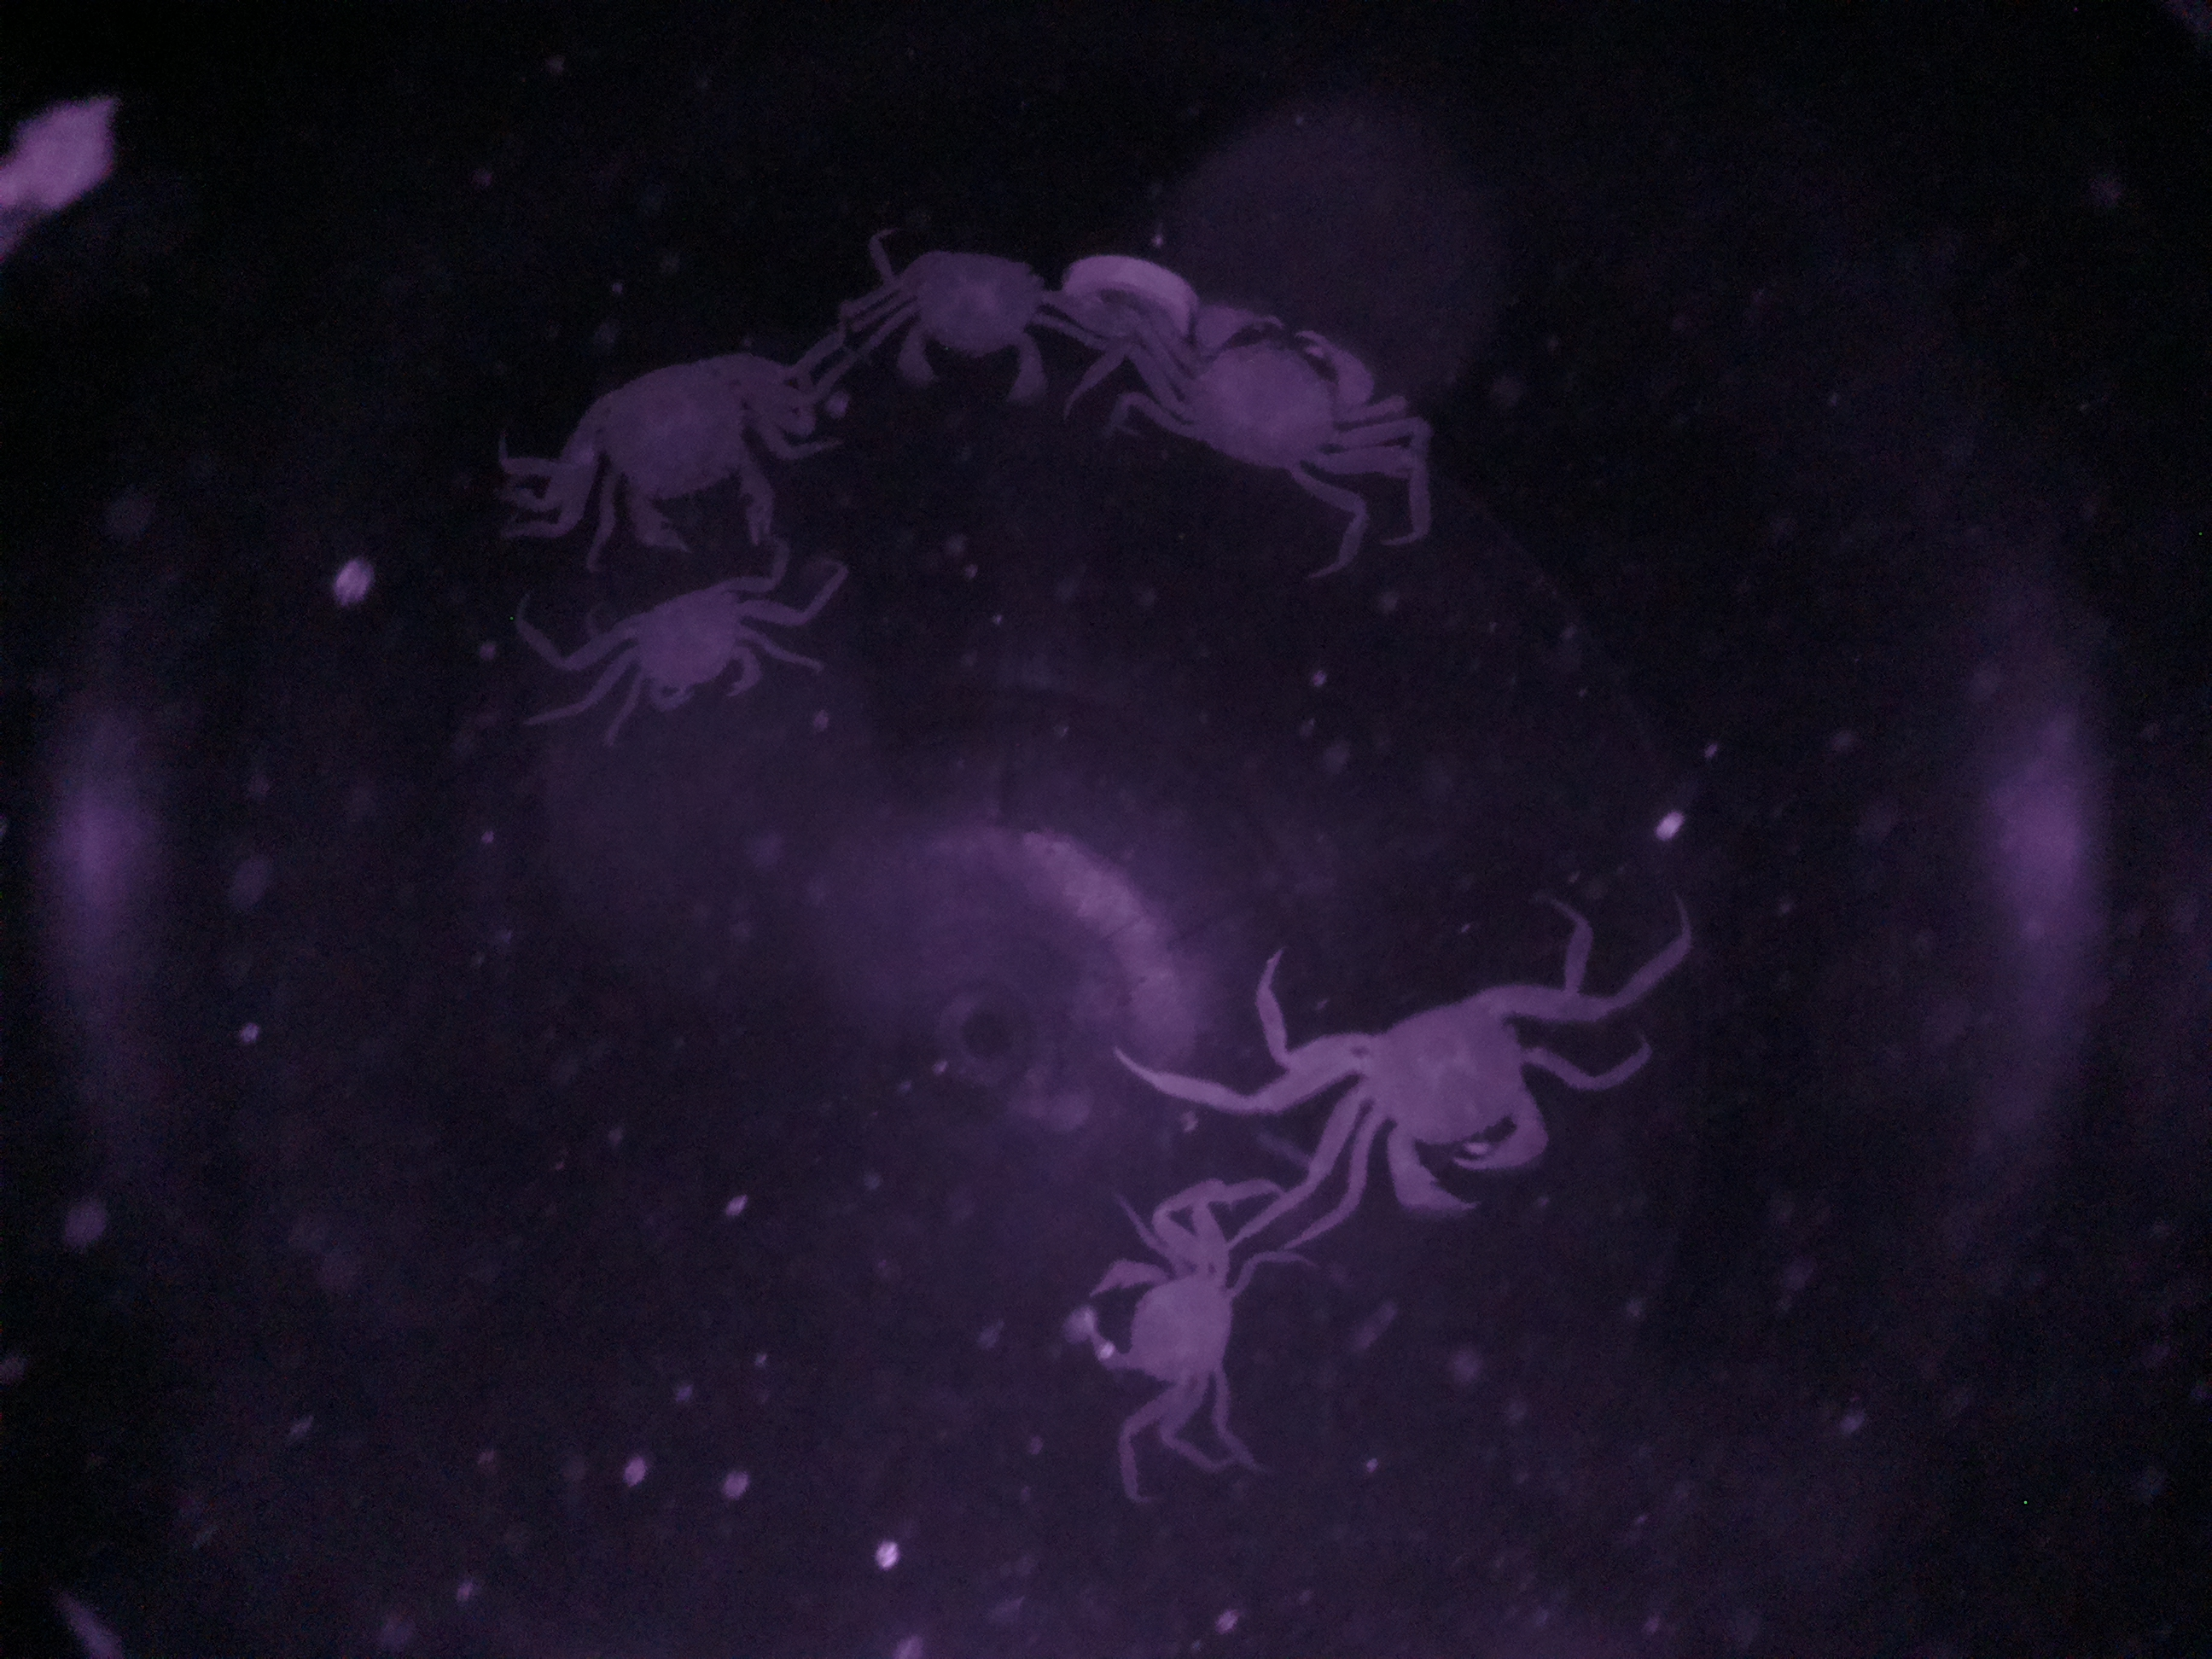Crab: (1280, 965, 1559, 1211), (1129, 301, 1414, 511), (552, 340, 786, 552), (869, 230, 1062, 410), (1082, 1218, 1256, 1410), (608, 570, 777, 720)
